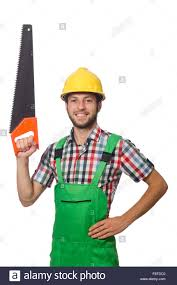Person_wearing_helmet: (53, 61, 105, 106)
